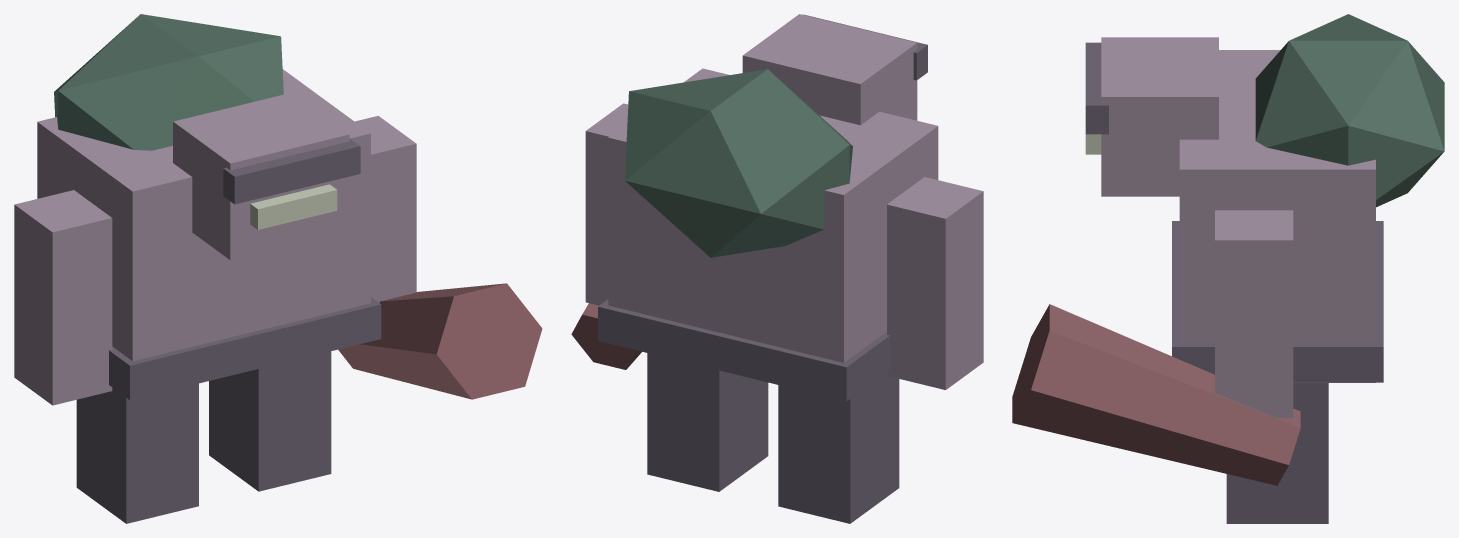
The model's file is troll.glb.
3 renders of one model, left to right at view 1: azimuth 30°, elevation 25°; view 2: azimuth 150°, elevation 25°; view 3: azimuth 270°, elevation 25°, orthographic. The views are drawn at different scales.
Visible parts, largest first — view 1: Torso, Hump, ArmL, Head, Club, LegL, LegR, Belt, ArmR, Brow, Eyes; view 2: Torso, Hump, ArmL, LegL, LegR, Head, Belt, ArmR, Club, Brow; view 3: Torso, Club, Hump, Head, ArmR, LegR, Belt, Brow.
Boxes of the visible parts, x1,y1,x2,y2 form: Torso: (37,69,370,360); Hump: (54,14,283,150); ArmL: (14,190,112,405); Head: (173,92,349,260); Club: (338,283,542,399); LegL: (76,383,198,523); LegR: (209,351,331,491); Belt: (109,297,381,400); ArmR: (355,115,416,302); Brow: (223,138,360,204); Eyes: (250,184,337,229); Torso: (608,68,938,362); Hump: (624,69,852,257); ArmL: (887,177,983,389); LegL: (778,372,899,523); LegR: (647,353,768,491); Head: (742,14,917,125); Belt: (598,299,889,401); ArmR: (585,103,628,305); Club: (571,303,641,369); Brow: (803,14,927,80); Torso: (1179,50,1375,382); Club: (1012,304,1300,485); Hump: (1255,14,1444,207); Head: (1101,37,1218,196); ArmR: (1215,210,1293,417); LegR: (1226,383,1328,523); Belt: (1172,221,1383,382); Brow: (1085,42,1108,134).
Size of the model in its own units: 1.21 by 1.21 by 1.1.
